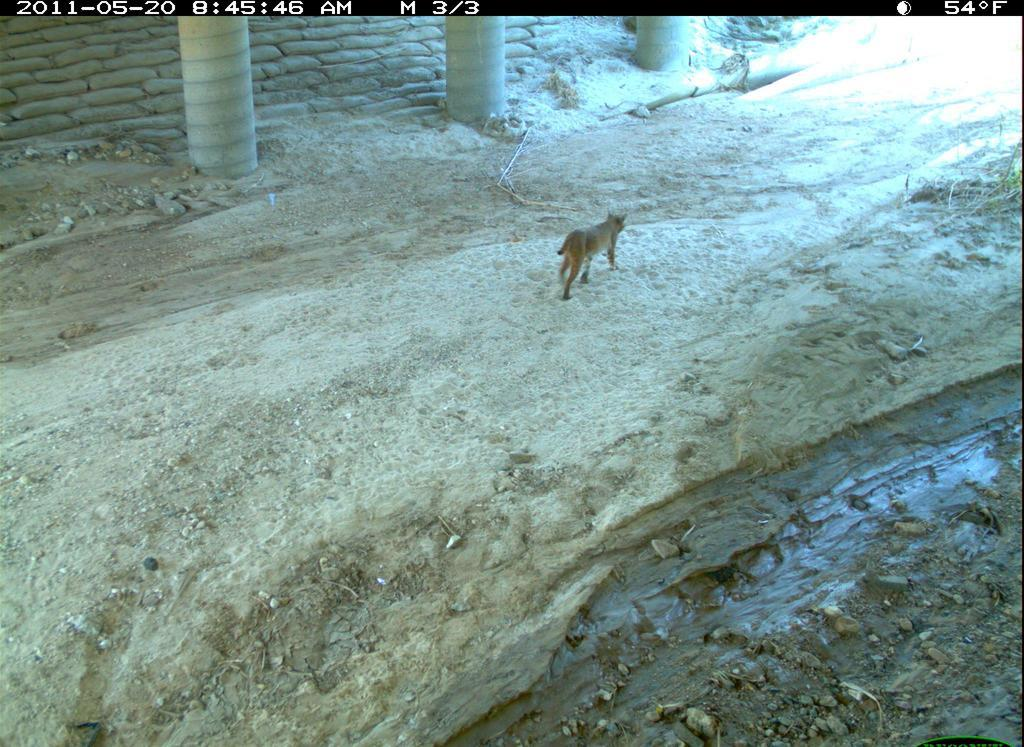bobcat: (547, 209, 643, 304)
